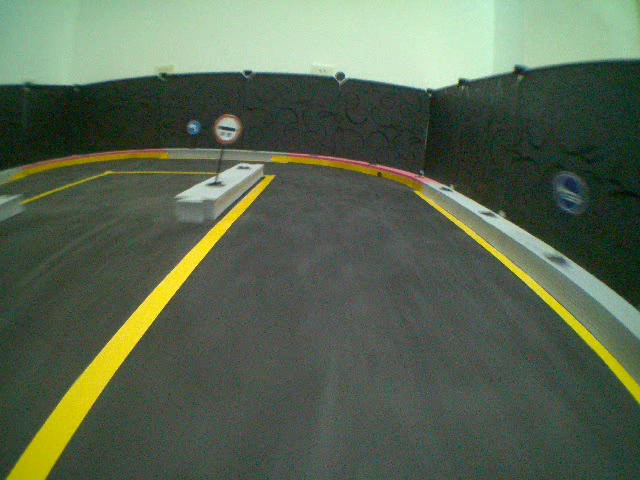Check: (212, 112, 242, 143)
horn: (550, 170, 591, 218)
turn: (185, 118, 199, 136)
